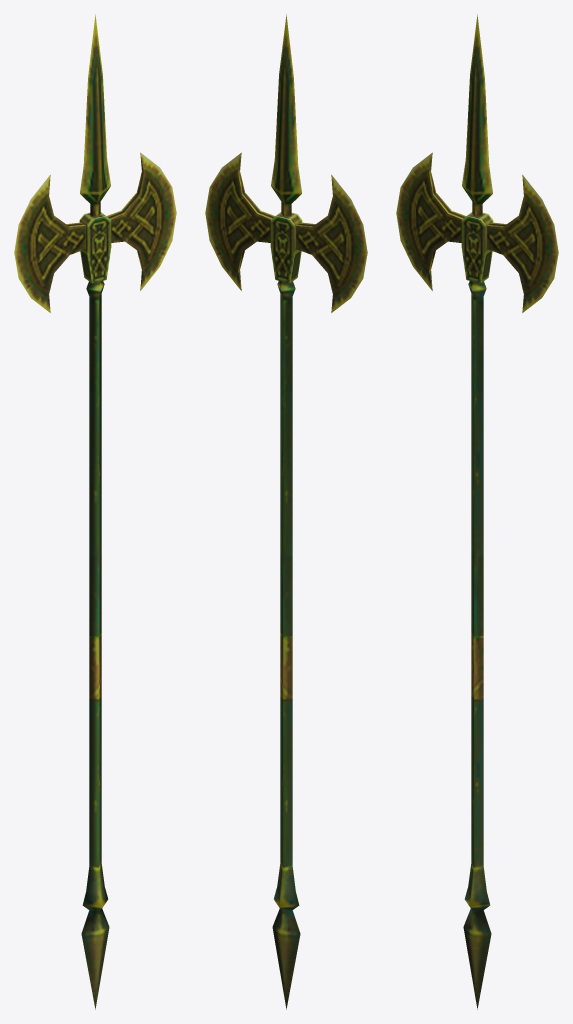
The model's file is Polearm12_a.FBX.
The picture shows the model from 3 angles, left to right: view 1: azimuth 30°, elevation 25°; view 2: azimuth 150°, elevation 25°; view 3: azimuth 330°, elevation 25°; orthographic projection.
Parts seen in each view (by area): view 1: Polearm12_a; view 2: Polearm12_a; view 3: Polearm12_a.
Part boxes in pixels (x1,y1,x2,y2): Polearm12_a: (14, 14, 176, 1009); Polearm12_a: (205, 14, 367, 1009); Polearm12_a: (396, 14, 558, 1009).
Size of the model in its own units: 46.06 by 270 by 7.07.
